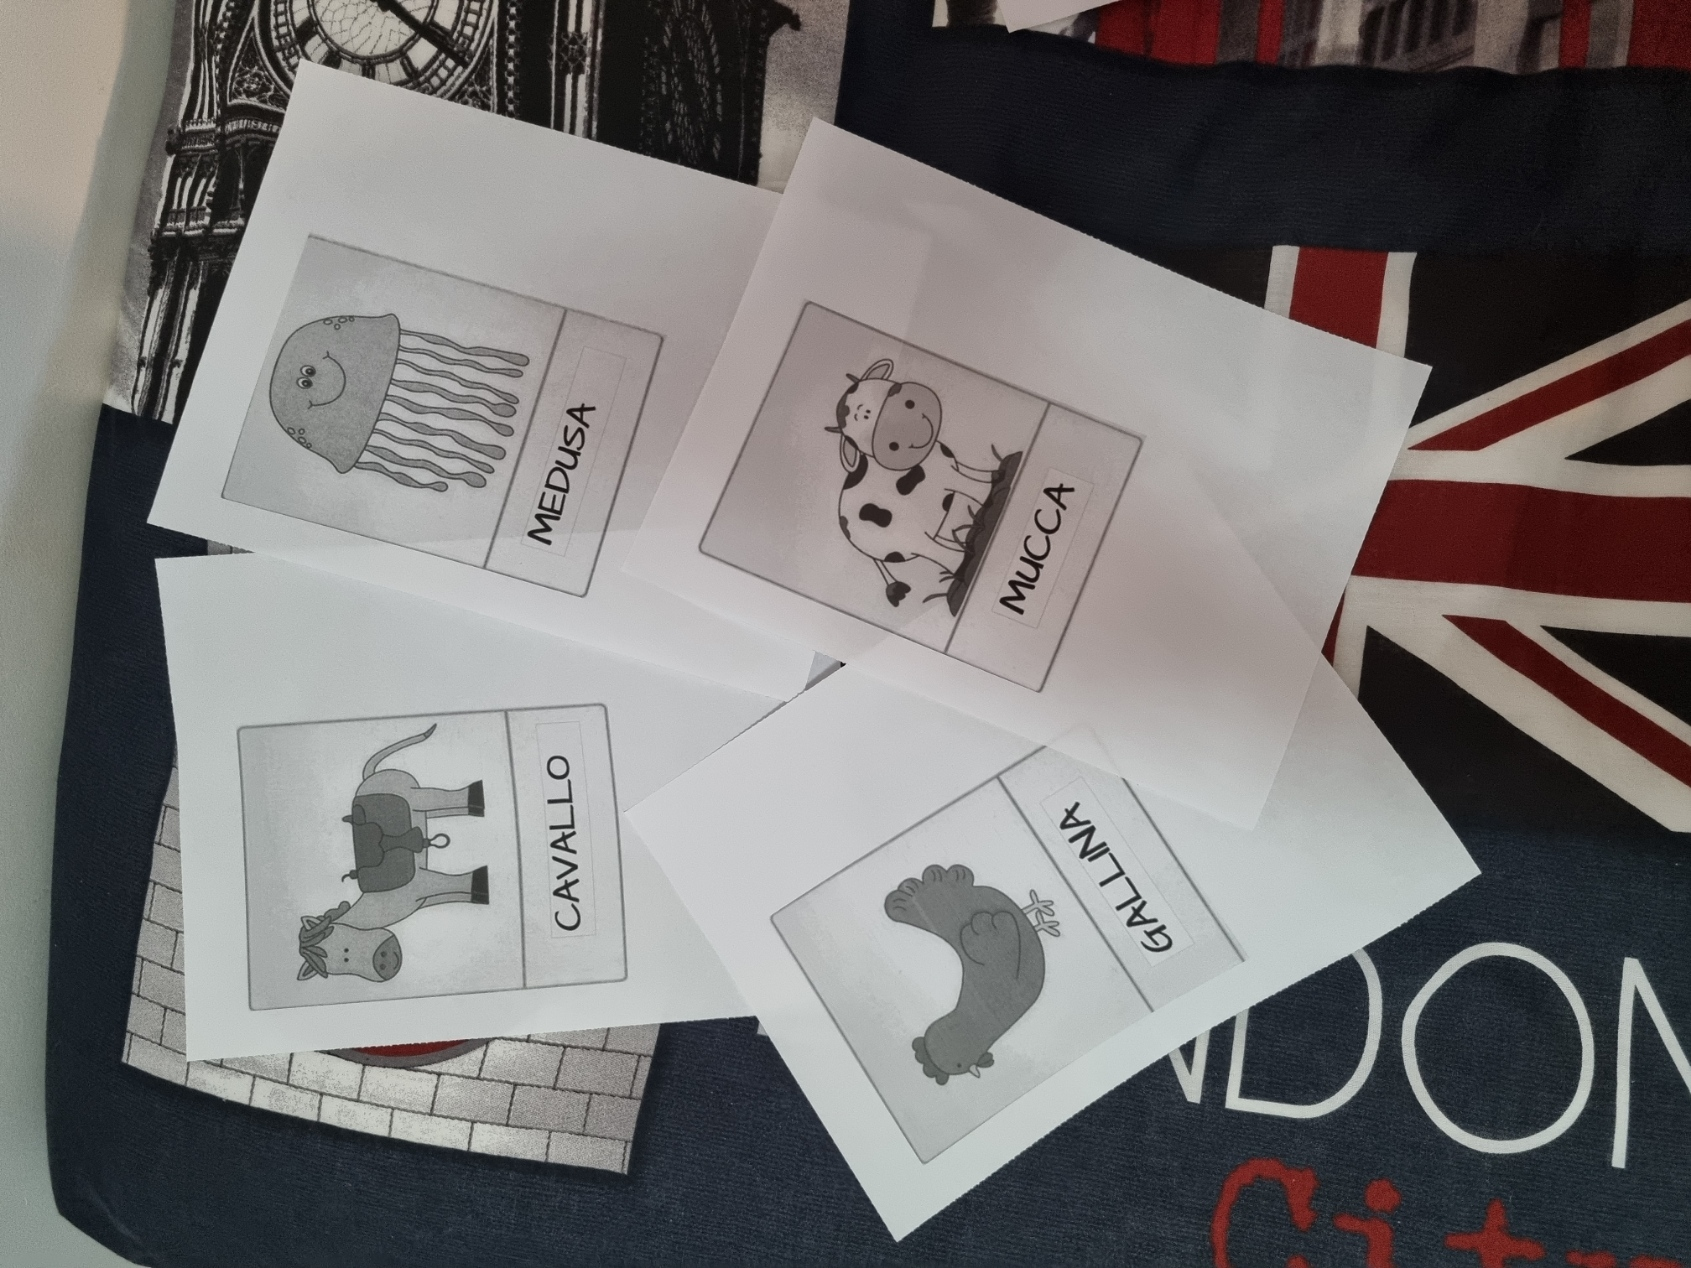cavallo: (231, 727, 614, 986)
gallina: (782, 789, 1209, 1087)
medusa: (261, 259, 620, 568)
mucca: (768, 331, 1101, 655)
